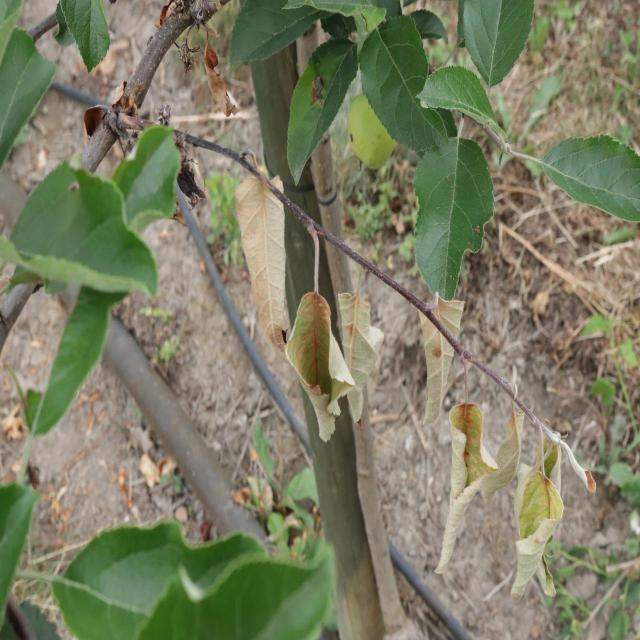-FireBlight-: (236, 154, 562, 598)
